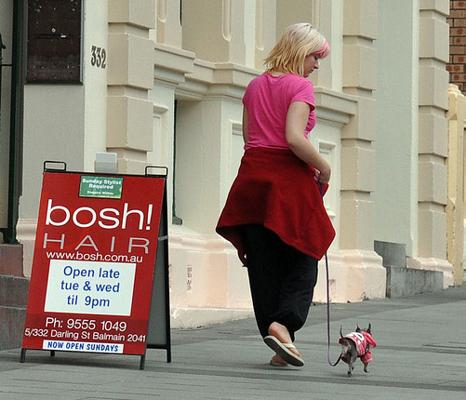person: (234, 23, 332, 368)
